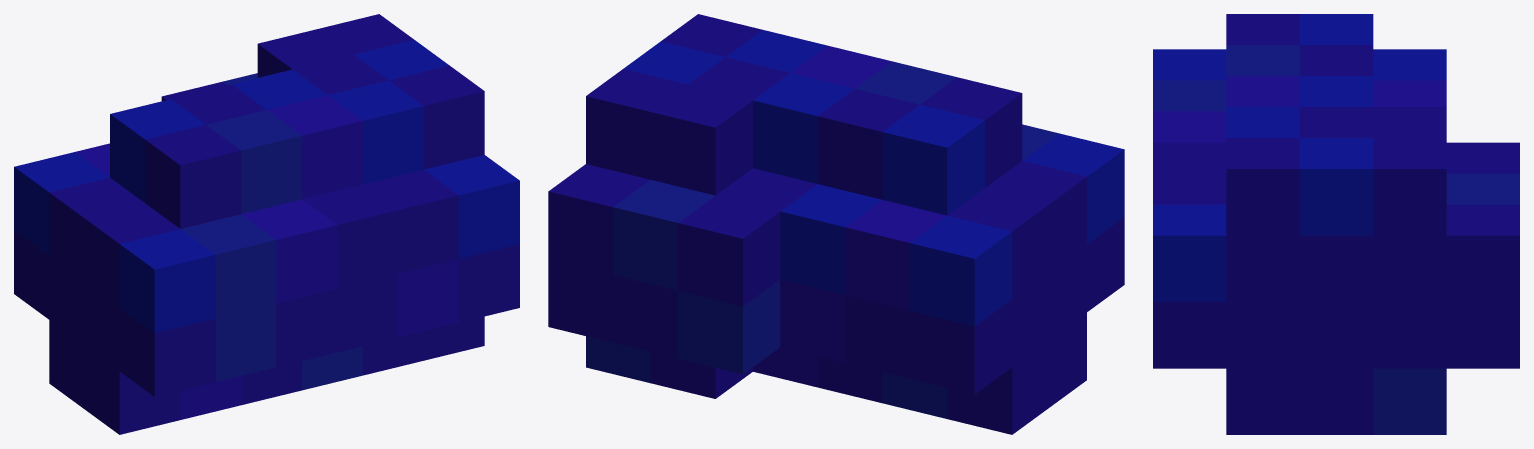
Rendered from FurroUpperArmR.fbx.
3 views of the same model, side by side, from view 1: azimuth 30°, elevation 25°; view 2: azimuth 150°, elevation 25°; view 3: azimuth 270°, elevation 25° (orthographic). The views are drawn at different scales.
Parts seen in each view (by area): view 1: FurroUpperArmR; view 2: FurroUpperArmR; view 3: FurroUpperArmR.
Boxes of the visible parts, x1=… form: FurroUpperArmR: x1=14, y1=14, x2=519, y2=434; FurroUpperArmR: x1=548, y1=14, x2=1124, y2=434; FurroUpperArmR: x1=1153, y1=14, x2=1519, y2=434.
Size of the model in its own units: 60 by 40 by 50.
